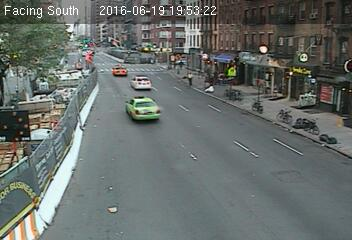neg: (311, 30, 324, 46), (231, 50, 243, 66), (308, 63, 319, 78), (143, 32, 150, 41)
pos: (183, 68, 199, 89), (176, 56, 188, 72)
